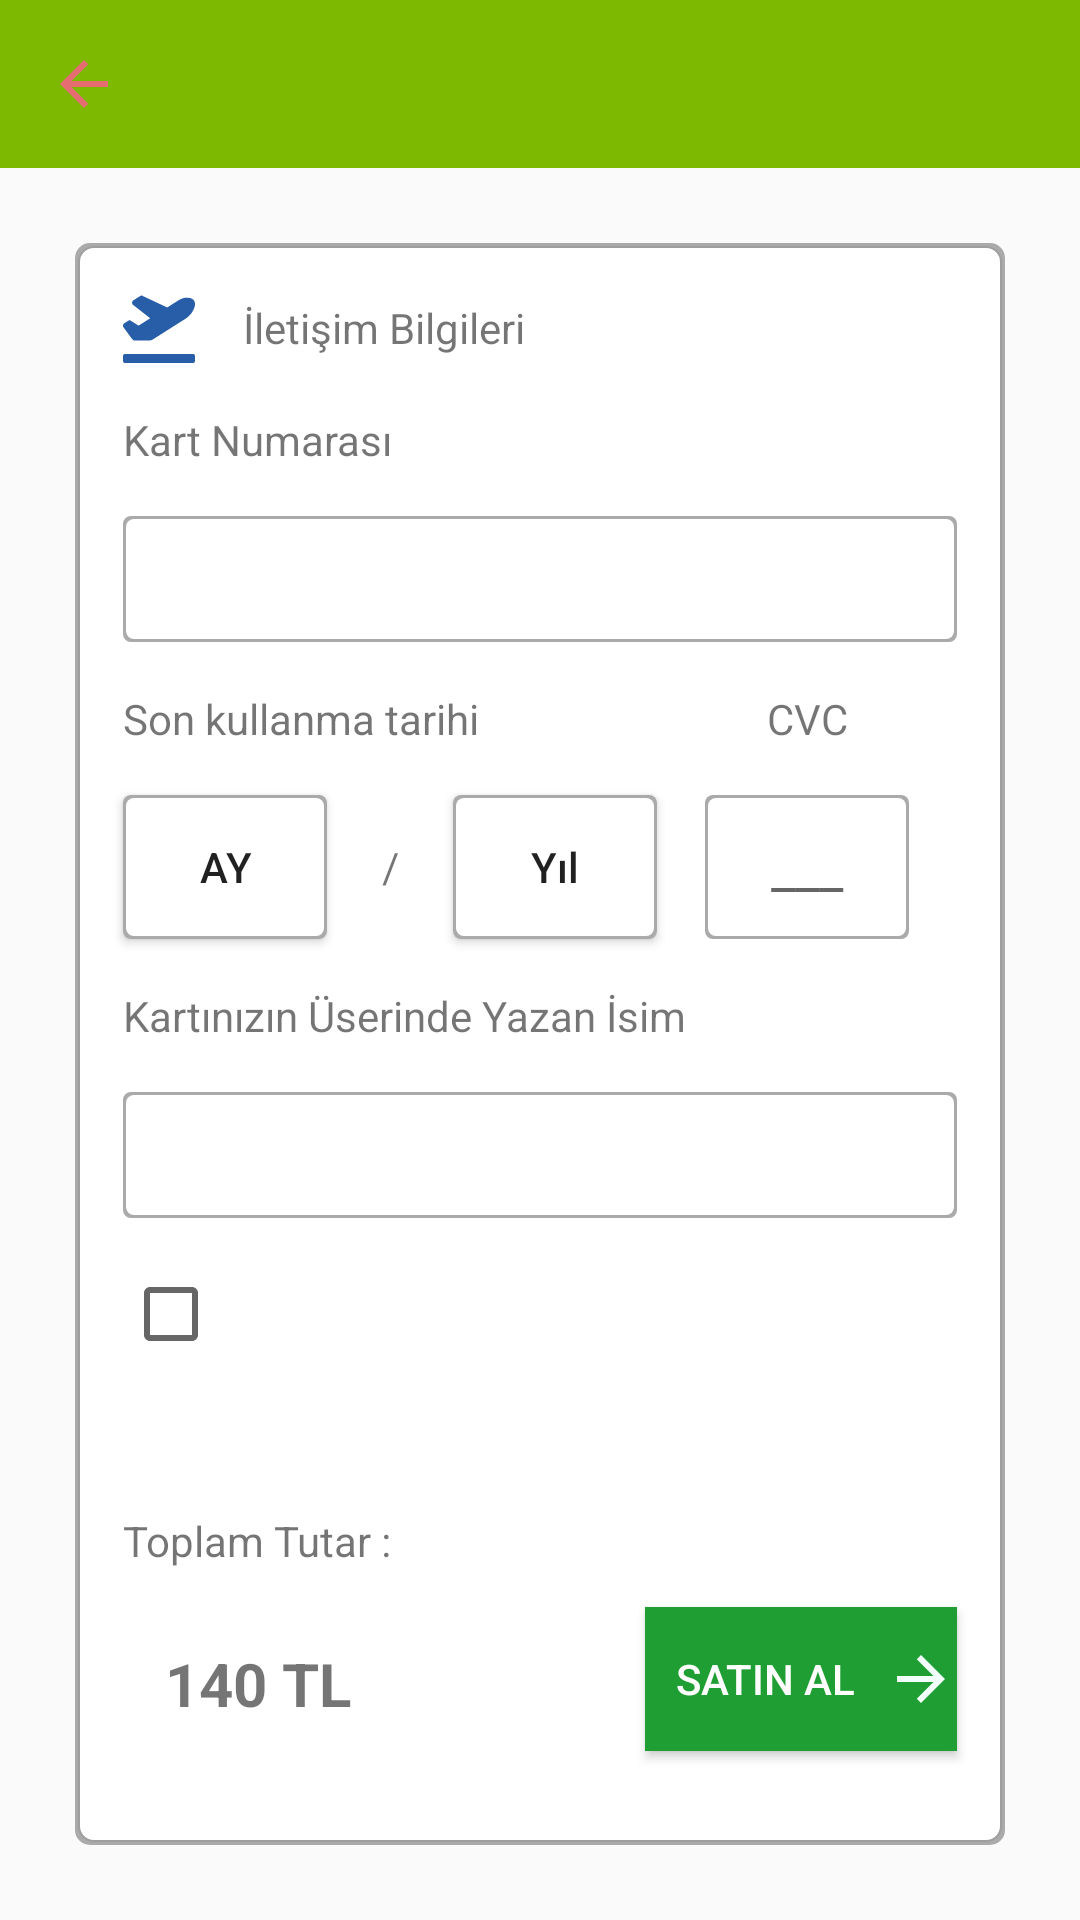

Icons on this 1080*1920 Android screen, each with the point to tap as [x,y]:
air from: [159,329]
back melon: [84,84]
